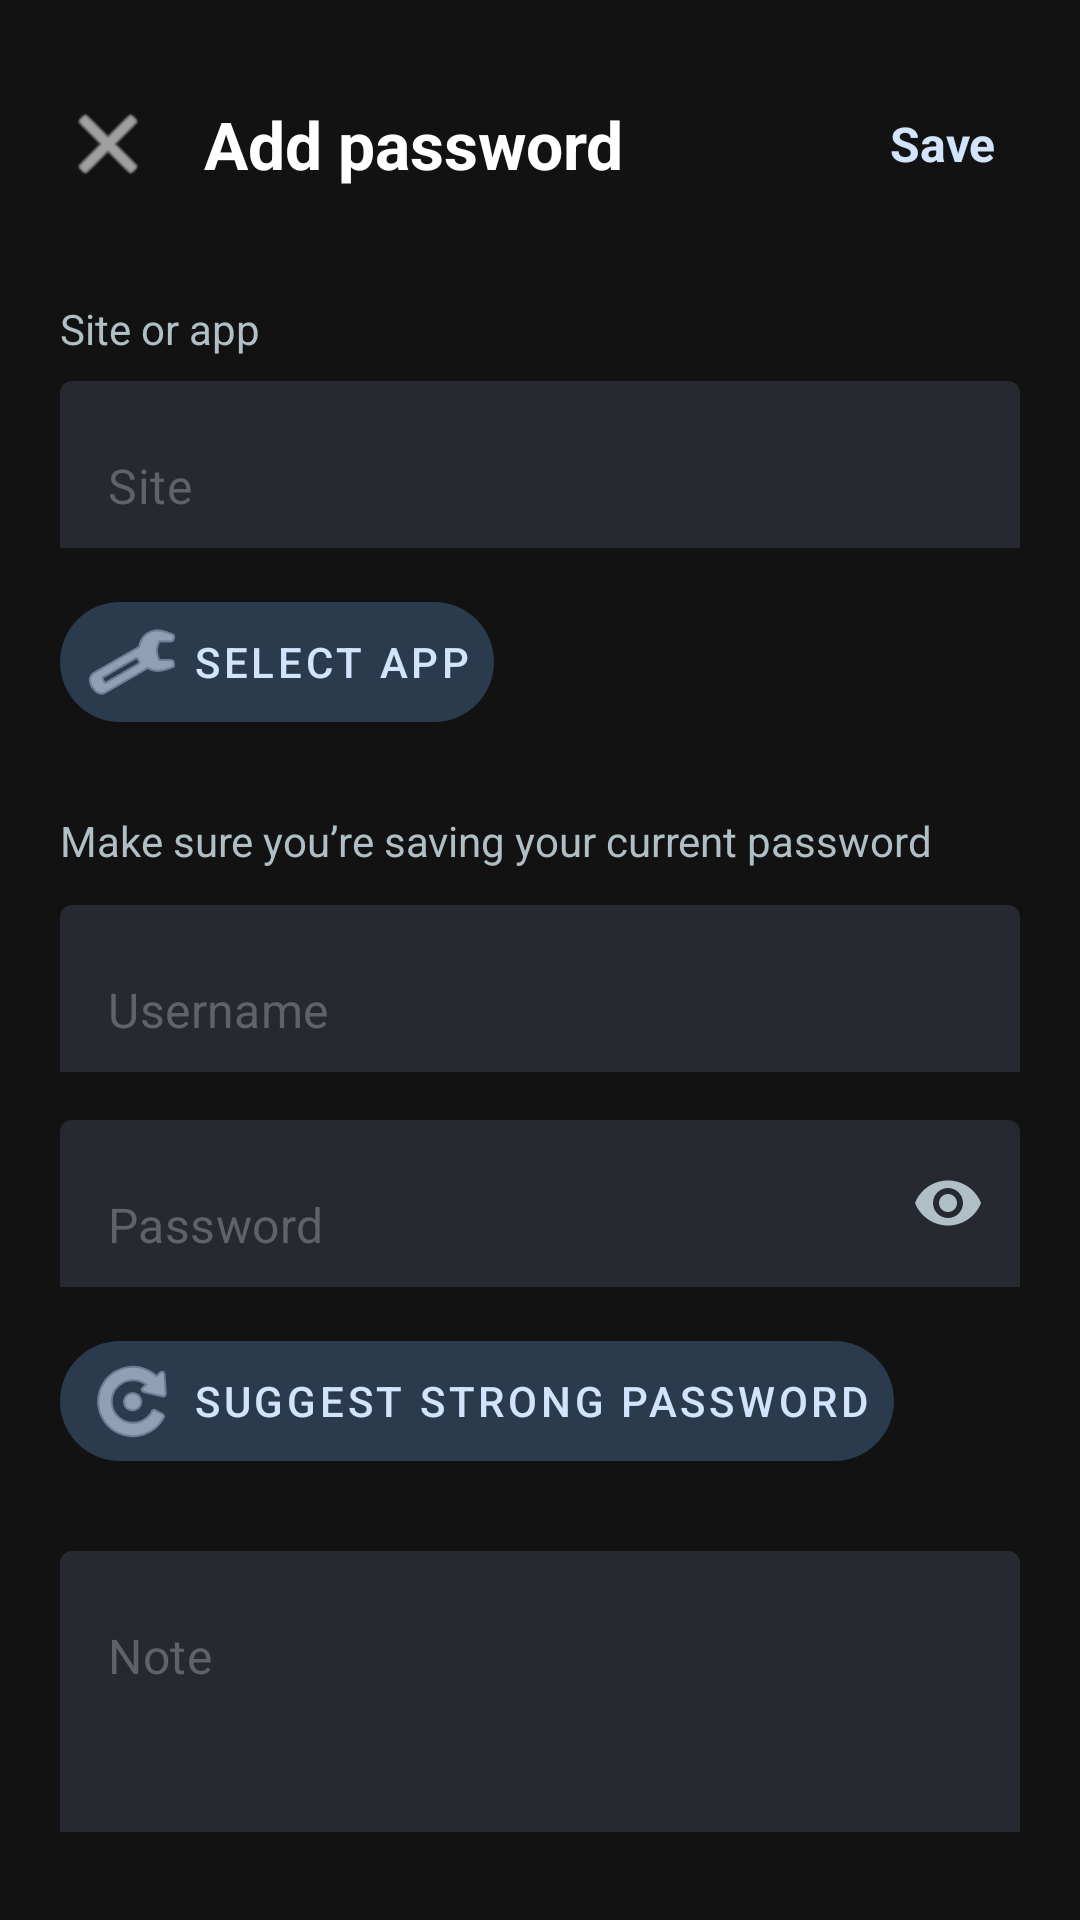

Where icons sit on this 1080 × 1920 app screen, as rect(x1, y1, x2, y2):
Close: rect(78, 114, 138, 174)
